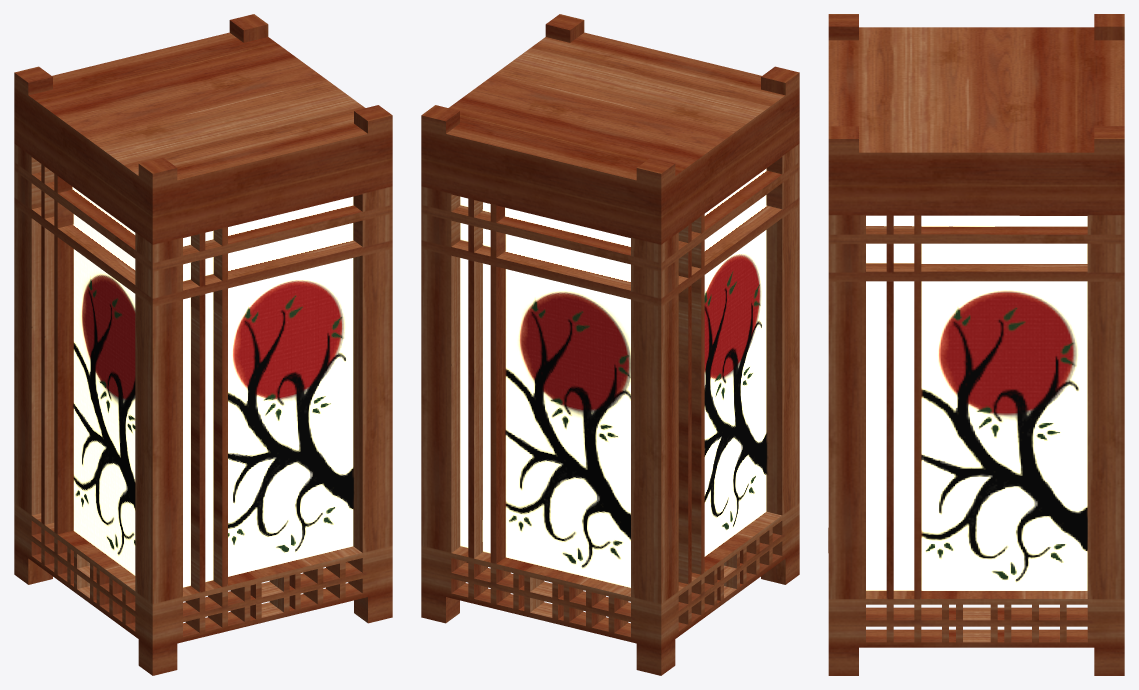
The model's file is lamp.gltf.
3 views of the same model, side by side, from view 1: azimuth 30°, elevation 25°; view 2: azimuth 150°, elevation 25°; view 3: azimuth 270°, elevation 25° (orthographic). The views are drawn at different scales.
Visible parts, largest first — view 1: lamp; view 2: lamp; view 3: lamp.
Part boxes in pixels (x1,y1,x2,y2): lamp: (14, 14, 392, 675); lamp: (421, 14, 799, 675); lamp: (828, 14, 1124, 675).
Size of the model in its own units: 0.3 by 0.6 by 0.3005.
Materials: 1 (1 with a texture image).
